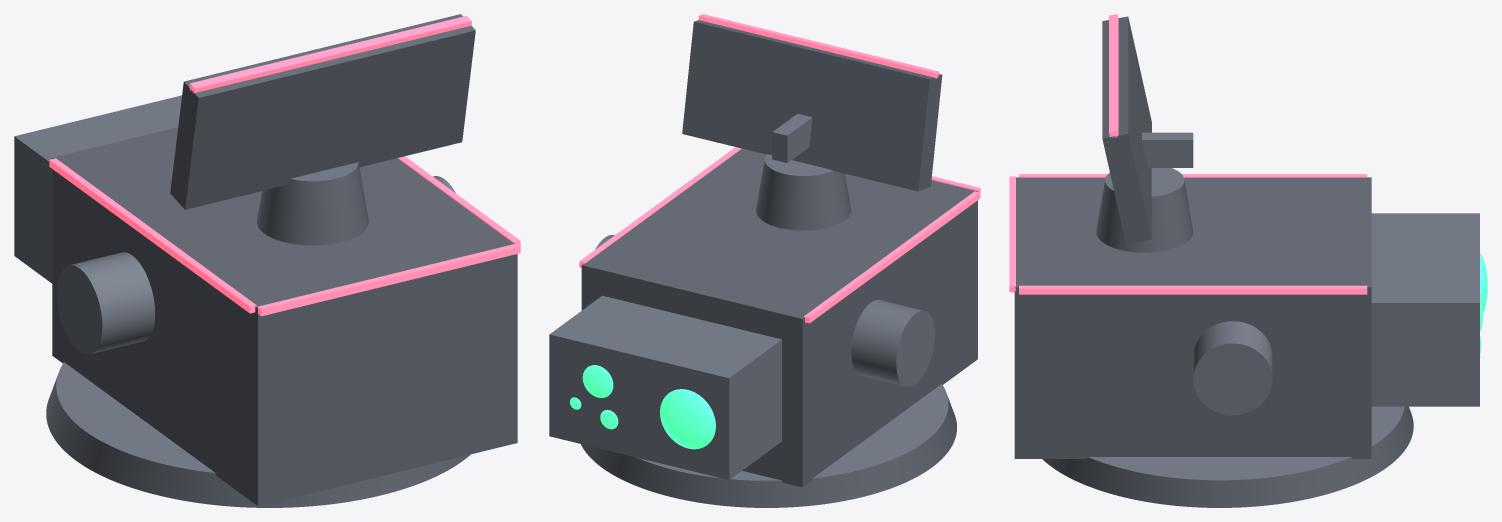
File: Automatic_turret.glb
The picture shows the model from 3 angles, left to right: view 1: azimuth 30°, elevation 25°; view 2: azimuth 150°, elevation 25°; view 3: azimuth 270°, elevation 25°; orthographic projection. The views are drawn at different scales.
Visible parts, largest first — view 1: Automatic_Turret; view 2: Automatic_Turret; view 3: Automatic_Turret.
Boxes of the visible parts, <box> form: Automatic_Turret: <box>14,14,520,507</box>; Automatic_Turret: <box>549,14,980,507</box>; Automatic_Turret: <box>1009,14,1487,507</box>.
Bounding box in the file's own units: 1.76 × 1.77 × 2.17.
